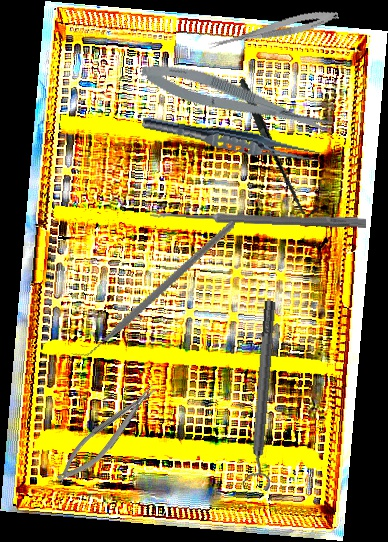Chopper: (70, 188, 236, 388)
Fixation Ring: (239, 300, 288, 491)
Hook Surgical: (211, 78, 346, 218)
Micro Scissor: (137, 53, 337, 147), (206, 5, 341, 57)
Needle Holder: (49, 379, 166, 490)
Surgical Spoon: (149, 209, 367, 228)
Tissue Forceps: (140, 112, 325, 168)
